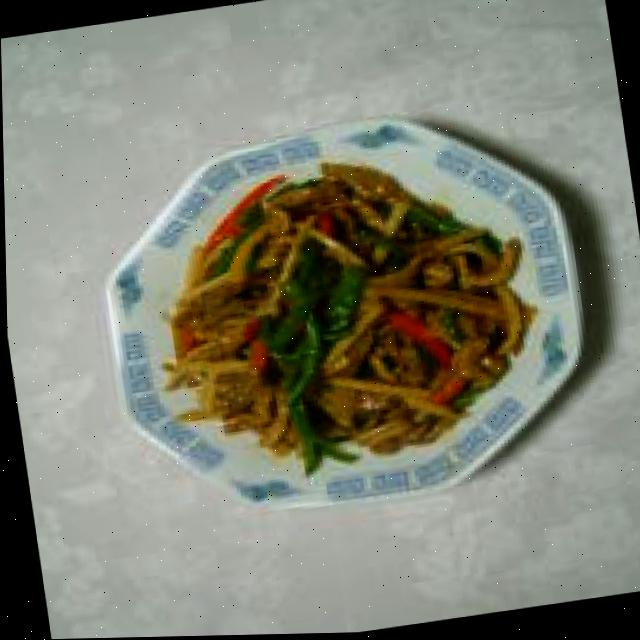牛肉菜式: (55, 84, 636, 559)
